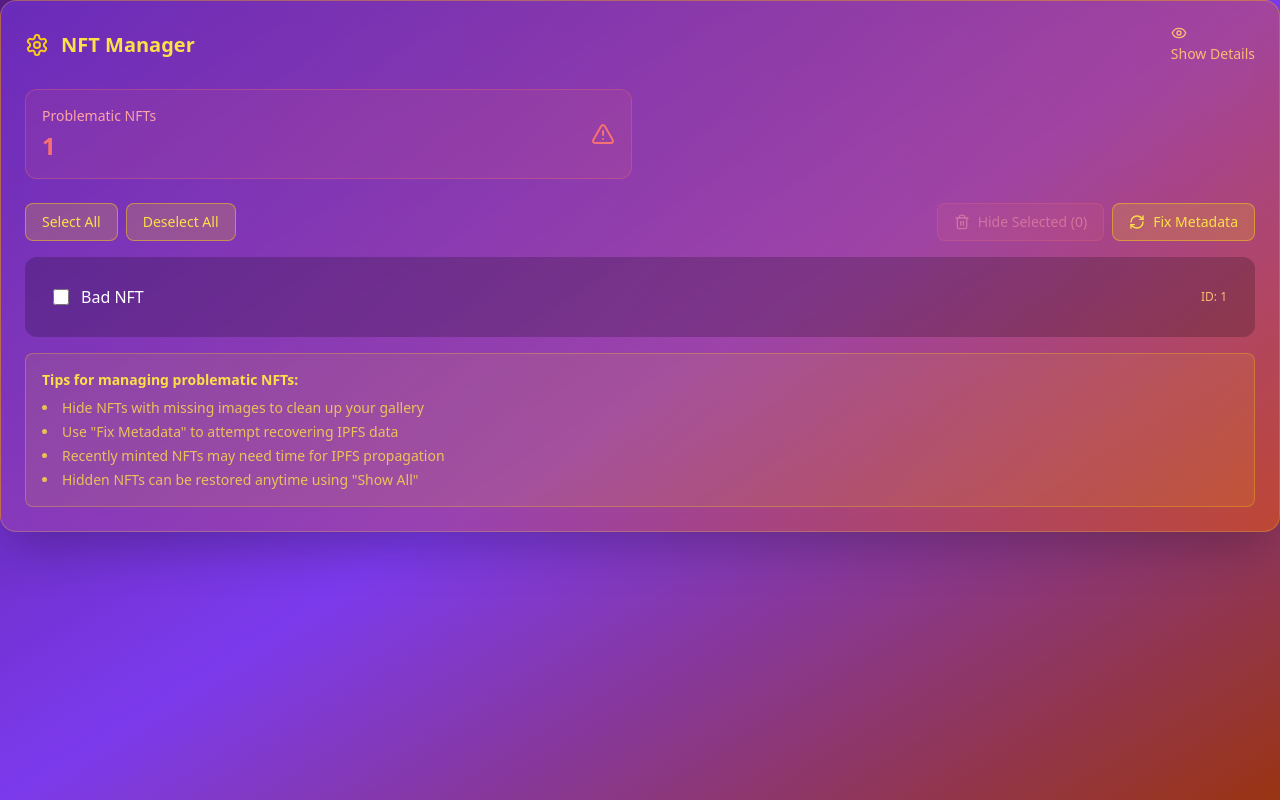
Test: NFTManager Component › toggles details view when show/hide details is clicked
Check: the text "Hash:" is not shown
Show details
Click the button "Show Details" at (1213, 45), box top-left (1171, 25), bottom-right (1255, 65)
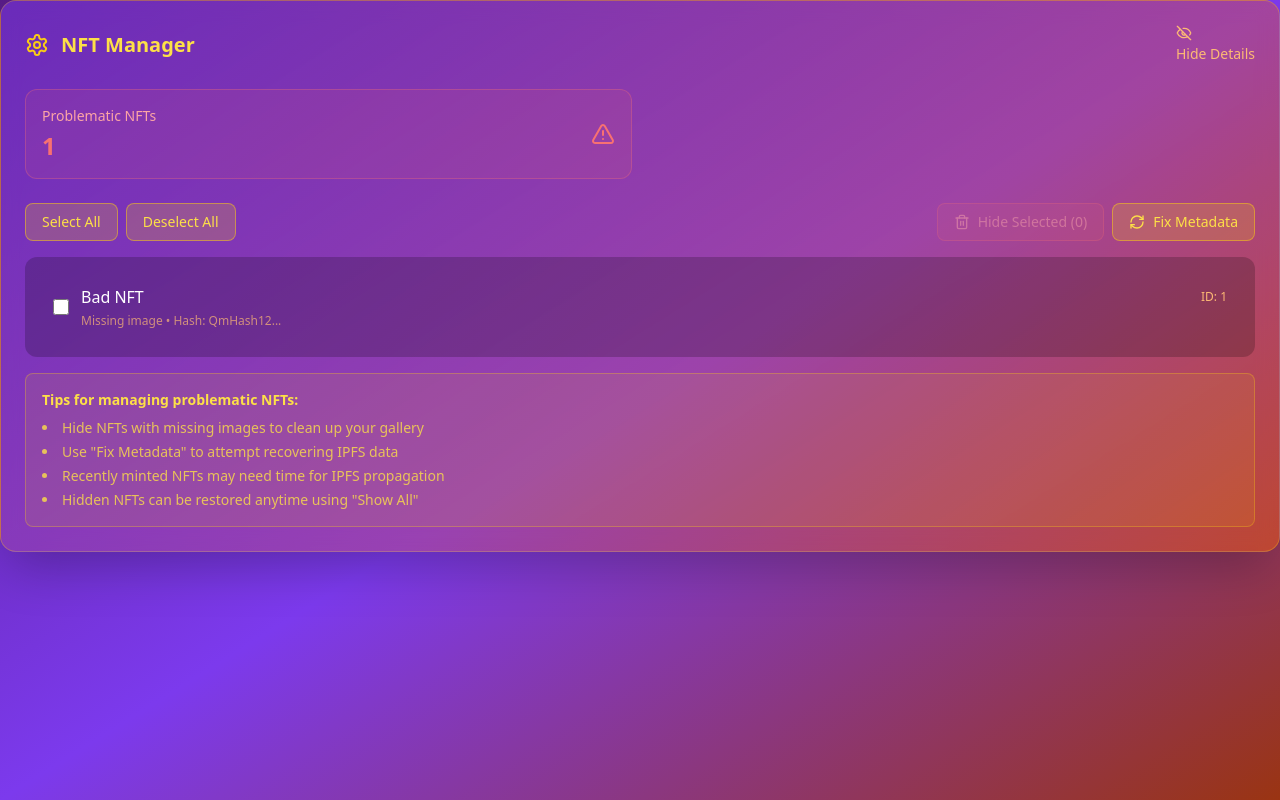
Check: the text "Missing image • Hash: QmHash12..." is shown, box top-left (81, 312), bottom-right (281, 329)
Hide details
Click the button "Hide Details" at (1215, 45), box top-left (1176, 25), bottom-right (1255, 65)
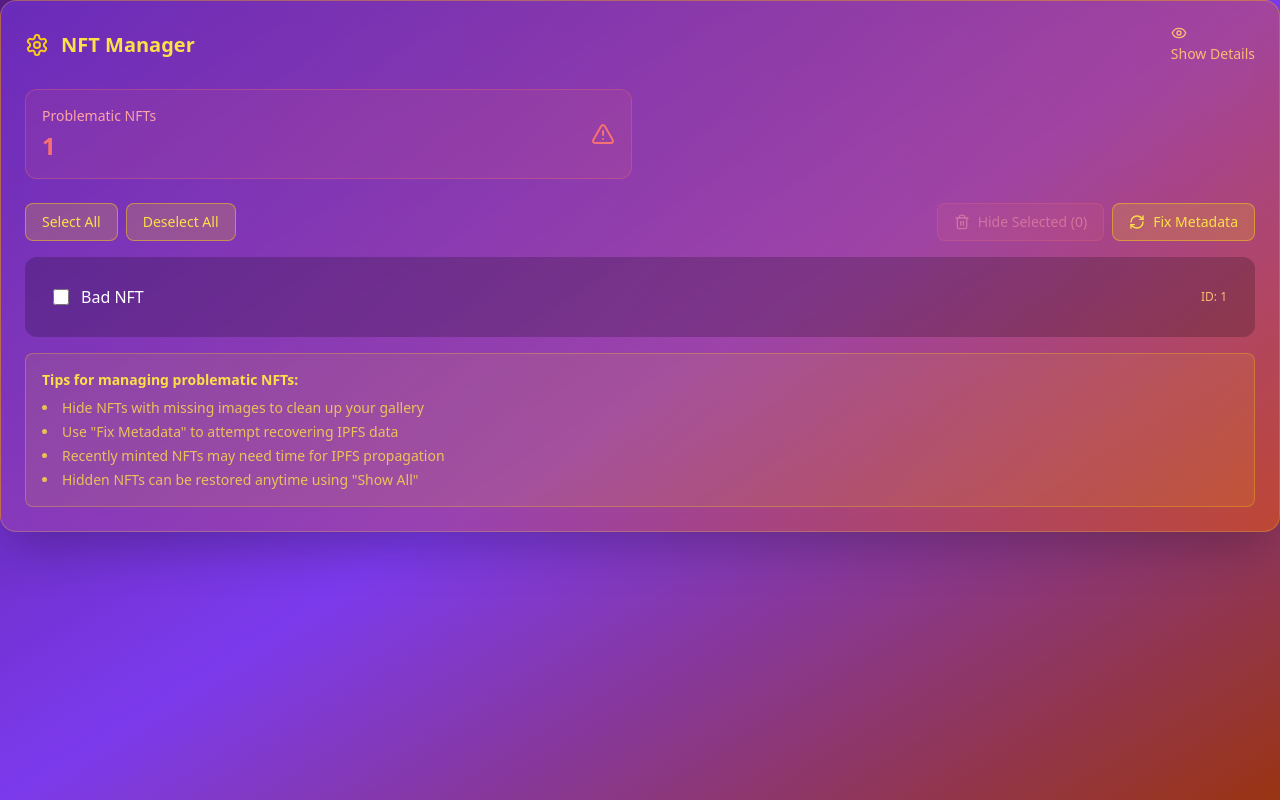
Check: the text "Hash:" is gone
